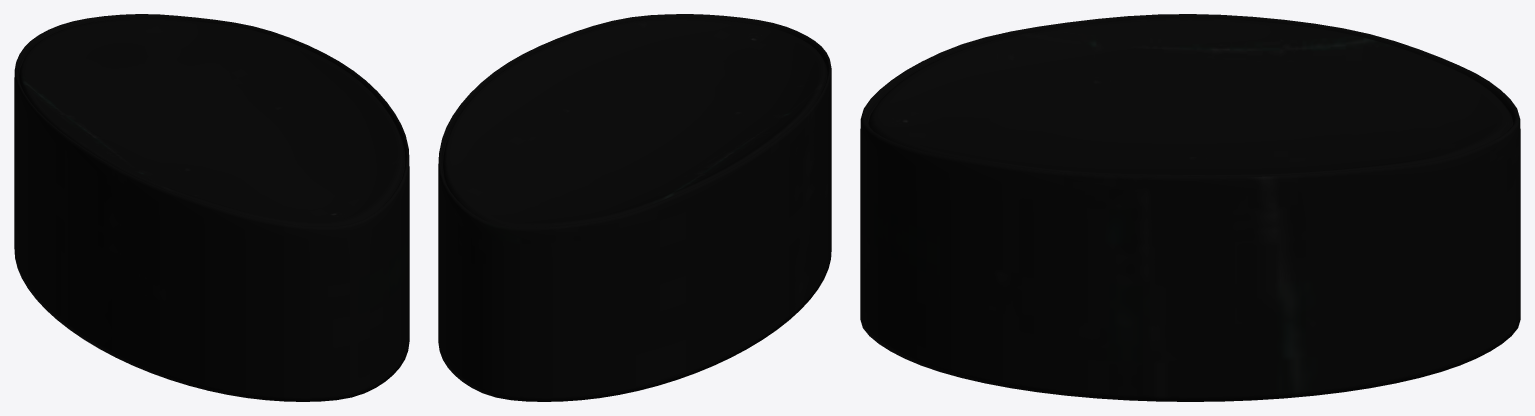
The model's file is SongkokTradisional.fbx.
3 views of the same model, side by side, from view 1: azimuth 30°, elevation 25°; view 2: azimuth 150°, elevation 25°; view 3: azimuth 270°, elevation 25° (orthographic). The views are drawn at different scales.
Visible parts, largest first — view 1: Circle; view 2: Circle; view 3: Circle.
Boxes of the visible parts, x1,y1,x2,y2 form: Circle: (14,14,409,401); Circle: (438,14,831,401); Circle: (860,14,1520,401).
Bounding box in the file's own units: 119 × 76 × 202.
1 material, 1 textured.
